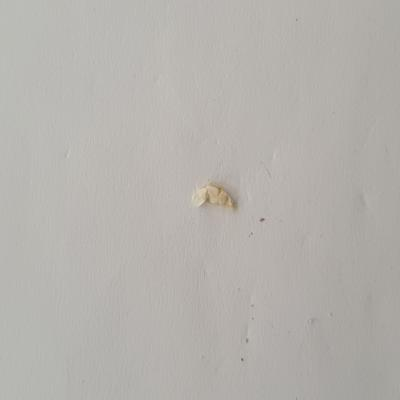plastic: (187, 177, 248, 213)
